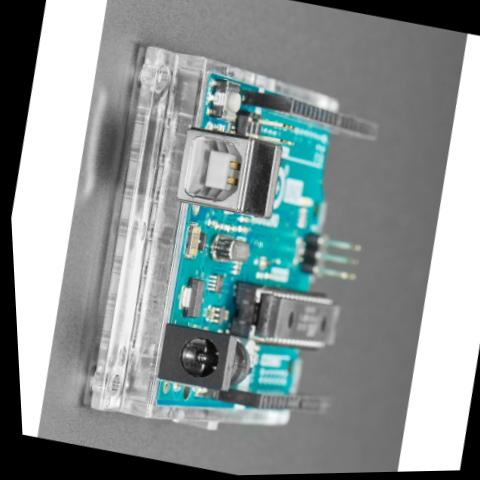Arduino-Uno: (123, 63, 399, 445)
